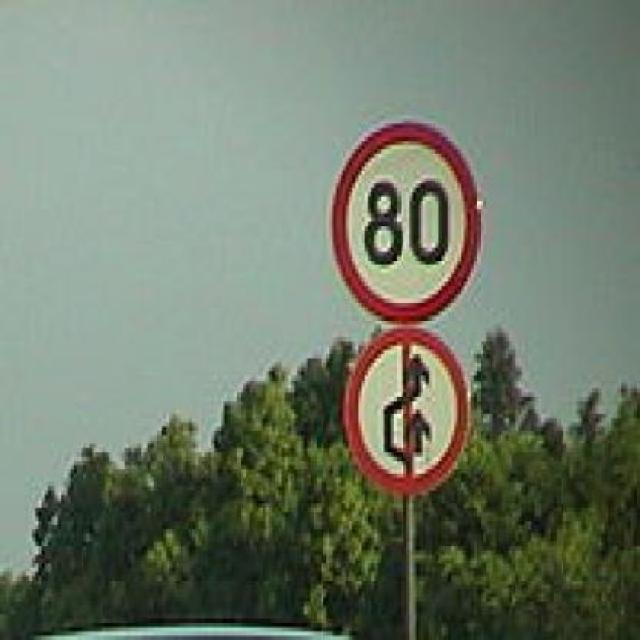forb_speed_over_80: (336, 121, 479, 319)
